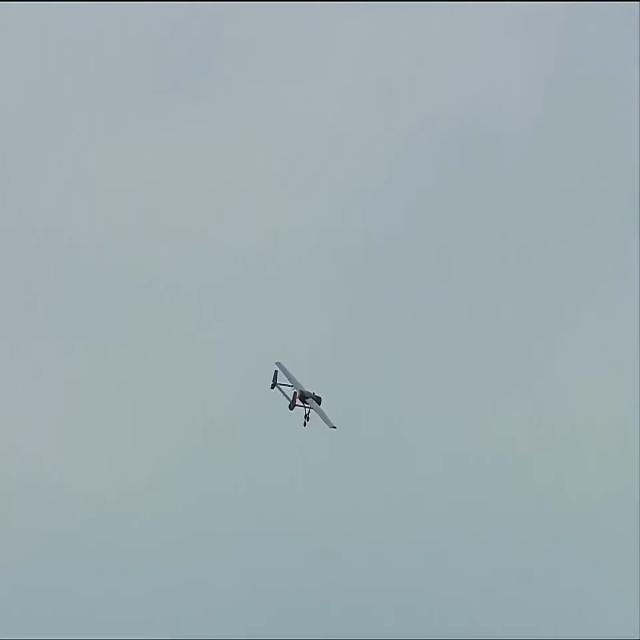iha: (302, 388, 304, 392)
